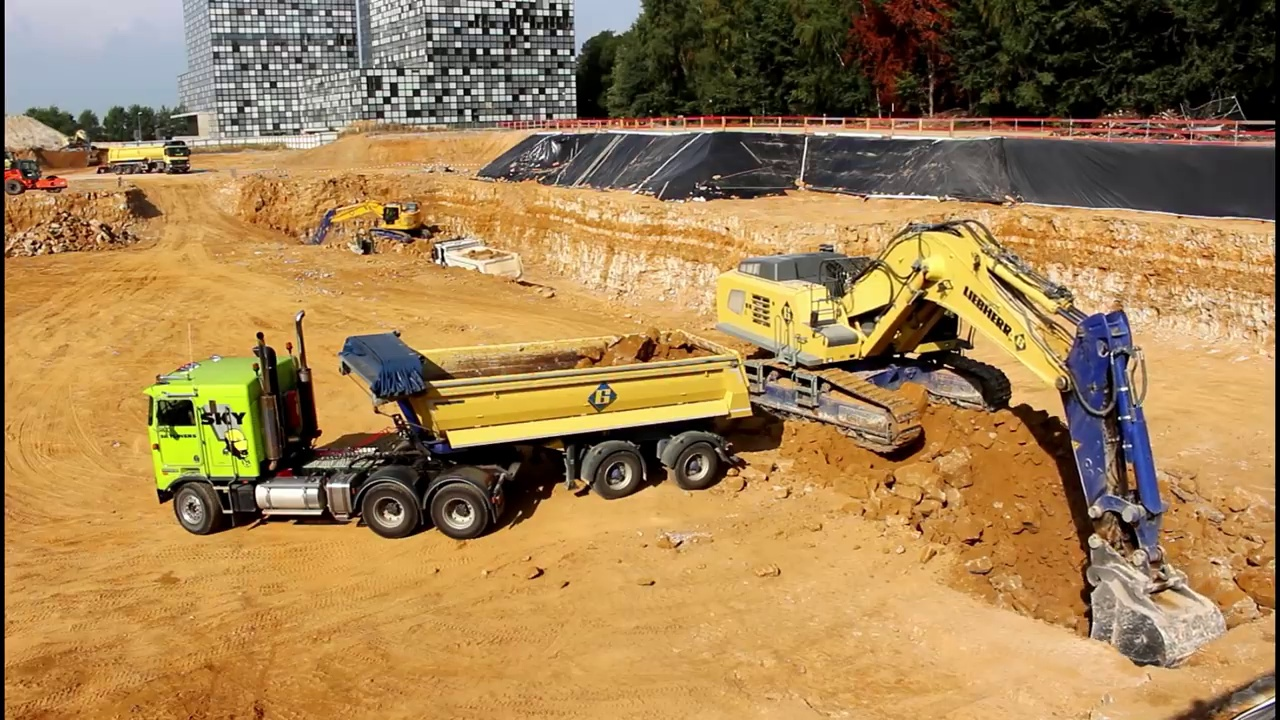compactor: (5, 152, 70, 198)
excavator: (709, 213, 1233, 683), (298, 193, 436, 268), (59, 124, 105, 174)
truck: (143, 306, 759, 543), (426, 227, 526, 303), (108, 137, 195, 181)
